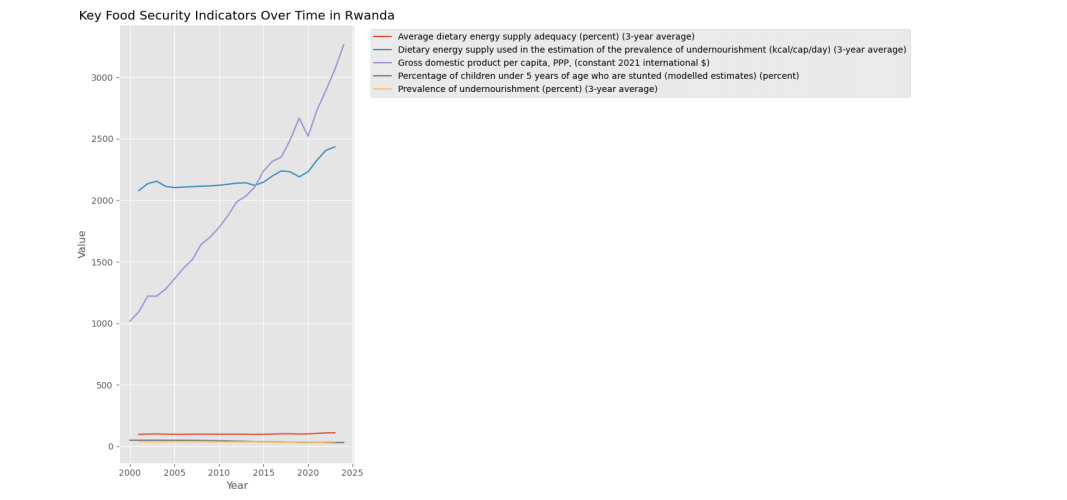

The dashboard page shown, as its layout file describes it:
{"tool":"powerbi","page":{"name":"Page 1","canvas":[1280,720],"ordinal":0},"visuals":[{"type":"lineChart","fields":{"Category":["rwanda_food_security_cleaned.Year_parsed"],"Y":["Sum(rwanda_food_security_cleaned.Value_numeric)"],"Series":["rwanda_food_security_cleaned.Item"]},"box":[201.6,62.2,853.3,493.9],"z":0},{"type":"textbox","box":[201.6,571.1,908.8,149.5],"z":1}]}

Visuals, with their boxes on the page's 1280x720 design canvas (x1, y1, x2, y2). These are canvas units, not pixel positions in the 1067x500 screenshot, which may show the page scaled, cropped or inside an application window:
lineChart - rwanda_food_security_cleaned.Year_parsed x Sum(rwanda_food_security_cleaned.Value_numeric): <region>202, 62, 1055, 556</region>
textbox: <region>202, 571, 1110, 721</region>
